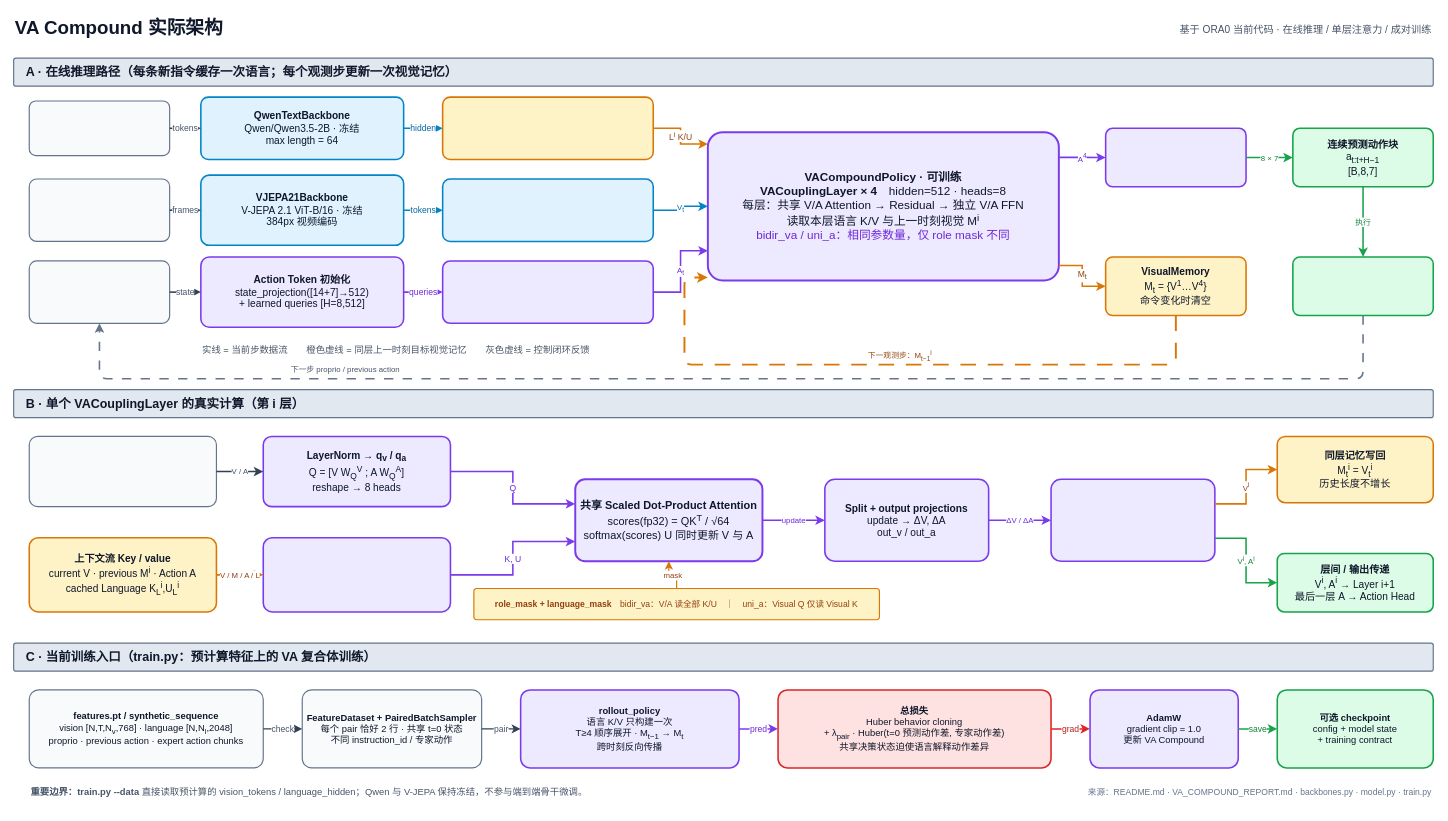
The diagram is 1448 pixels wide and 821 high, and some of its shapes have lost their labels. The shapes that lost their labels are listed below. From the top down, each one's box as (x1, y1, x2, y2) in pixels, then its label:
(28, 100, 170, 156): 自然语言指令 命令变化时触发
(441, 96, 654, 160): LanguageCache（按层） hidden [B,N l ,2048] + mask K L i , U L i : [B,8,N l ,64]
(1104, 127, 1246, 187): Action Head LayerNorm + Linear 512 → 7
(28, 178, 170, 242): 相机窗口 [B,4,3,384,384] ImageNet 归一化
(441, 178, 654, 242): Token 限幅 + Vision Projection adaptive pool → 64 tokens [B,64,768] → [B,64,512]
(28, 260, 170, 324): 机器人状态 proprio [B,14] previous action [B,7]
(441, 260, 654, 324): A t 初始动作查询 state-conditioned [B,8,512]
(1292, 256, 1434, 316): 机器人 / 低层控制器 执行动作并产生下一状态 （repo 外部）
(28, 435, 217, 507): 查询流 Query streams Visual V t i−1 [B,N v ,512] Action A t i−1 [B,H,512]
(1050, 478, 1215, 562): Residual + 独立 pre-norm FFN V ← V + out_v + ffn_v A ← A + out_a + ffn_a
(262, 537, 451, 612): LayerNorm → role-specific K / U k,u for V · M · A + cached K L ,U L → concat
